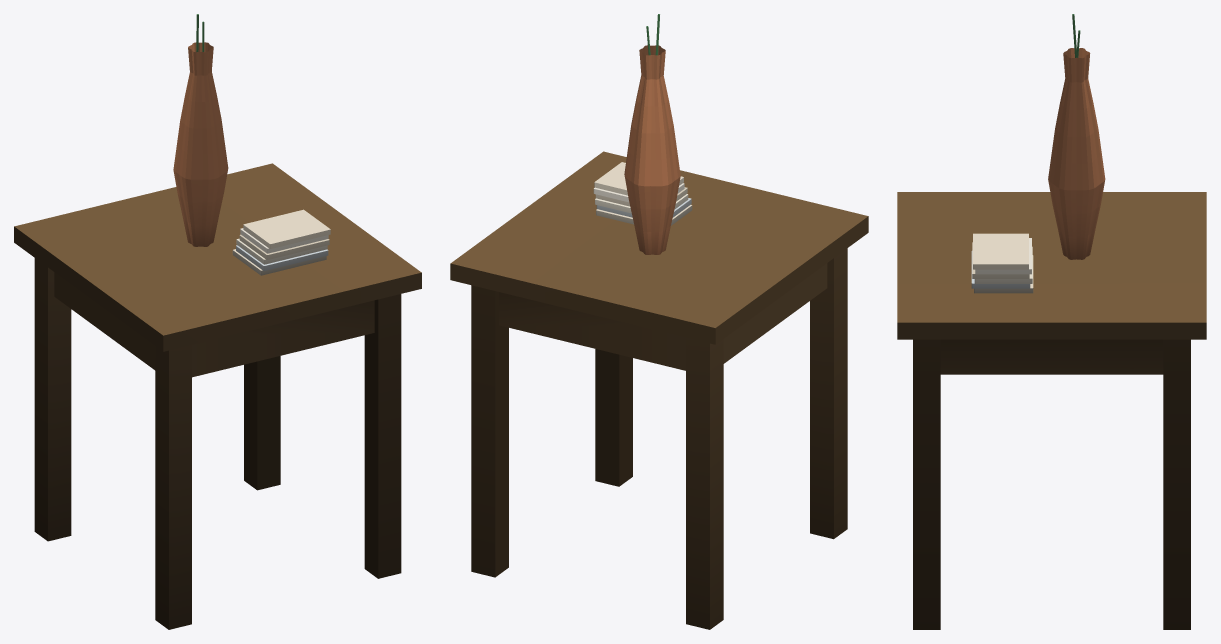
File: reading.side-table.glb
The picture shows the model from 3 angles, left to right: view 1: azimuth 30°, elevation 25°; view 2: azimuth 150°, elevation 25°; view 3: azimuth 270°, elevation 25°; orthographic projection. The views are drawn at different scales.
Visible parts, largest first — view 1: asset:composed-furniture:reading.side-table:pbr, asset:vase, asset:mail-stack; view 2: asset:composed-furniture:reading.side-table:pbr, asset:vase, asset:mail-stack; view 3: asset:composed-furniture:reading.side-table:pbr, asset:vase, asset:mail-stack.
Part boxes in pixels (x1,y1,x2,y2): asset:composed-furniture:reading.side-table:pbr: (14, 163, 421, 629); asset:vase: (173, 14, 228, 246); asset:mail-stack: (232, 209, 330, 275); asset:composed-furniture:reading.side-table:pbr: (450, 151, 868, 629); asset:vase: (624, 14, 680, 254); asset:mail-stack: (593, 162, 692, 225); asset:composed-furniture:reading.side-table:pbr: (897, 192, 1206, 629); asset:vase: (1048, 14, 1105, 259); asset:mail-stack: (971, 233, 1033, 293).
Bounding box in the file's own units: 0.5 × 0.9849 × 0.5.
